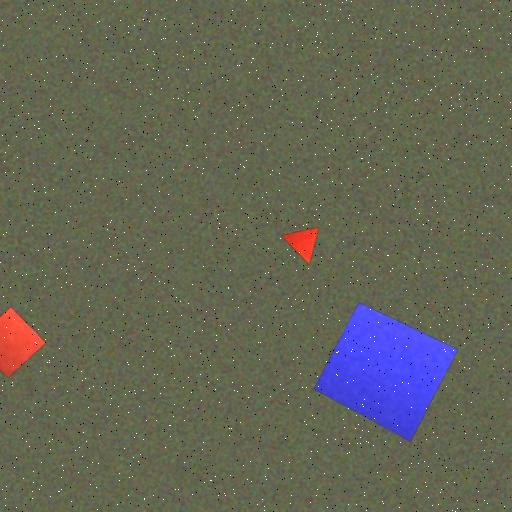BLUE_SQUARE: (314, 302, 459, 442)
RED_SQUARE: (0, 306, 47, 378)
